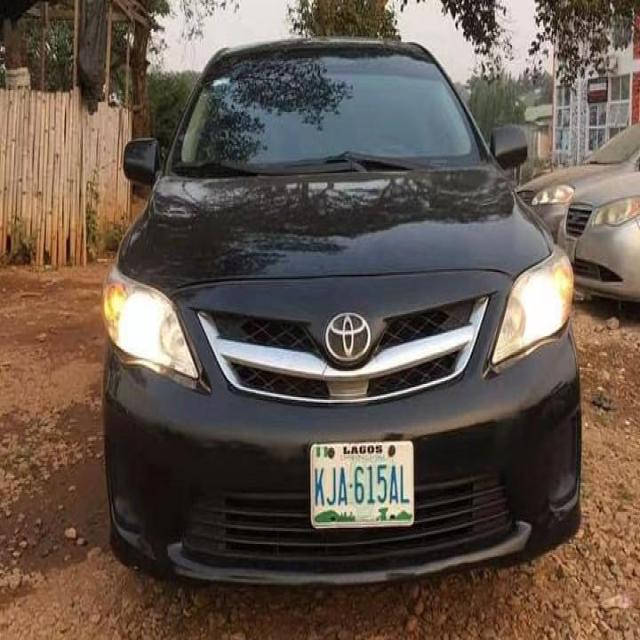Nigerian License Plate - vdataset benjamin-daria: (309, 439, 415, 531)
